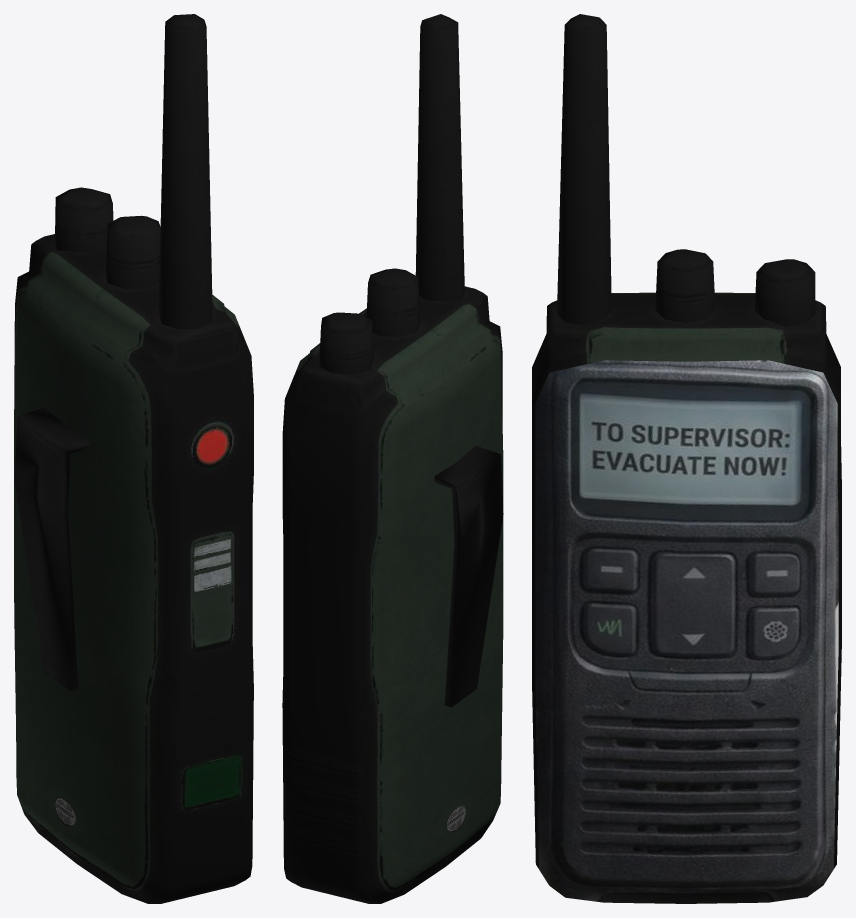
File: Wireless.glb
3 renders of one model, left to right at view 1: azimuth 30°, elevation 25°; view 2: azimuth 150°, elevation 25°; view 3: azimuth 270°, elevation 25°, orthographic. The views are drawn at different scales.
Visible parts, largest first — view 1: walkie_takie_Cube.006; view 2: walkie_takie_Cube.006; view 3: walkie_takie_Cube.006.
Part boxes in pixels (x1,y1,x2,y2): walkie_takie_Cube.006: (14,14,253,903); walkie_takie_Cube.006: (282,14,503,903); walkie_takie_Cube.006: (532,14,841,903).
Bounding box in the file's own units: 0.3617 × 1.8 × 0.5873.
2 materials, 2 textured.
